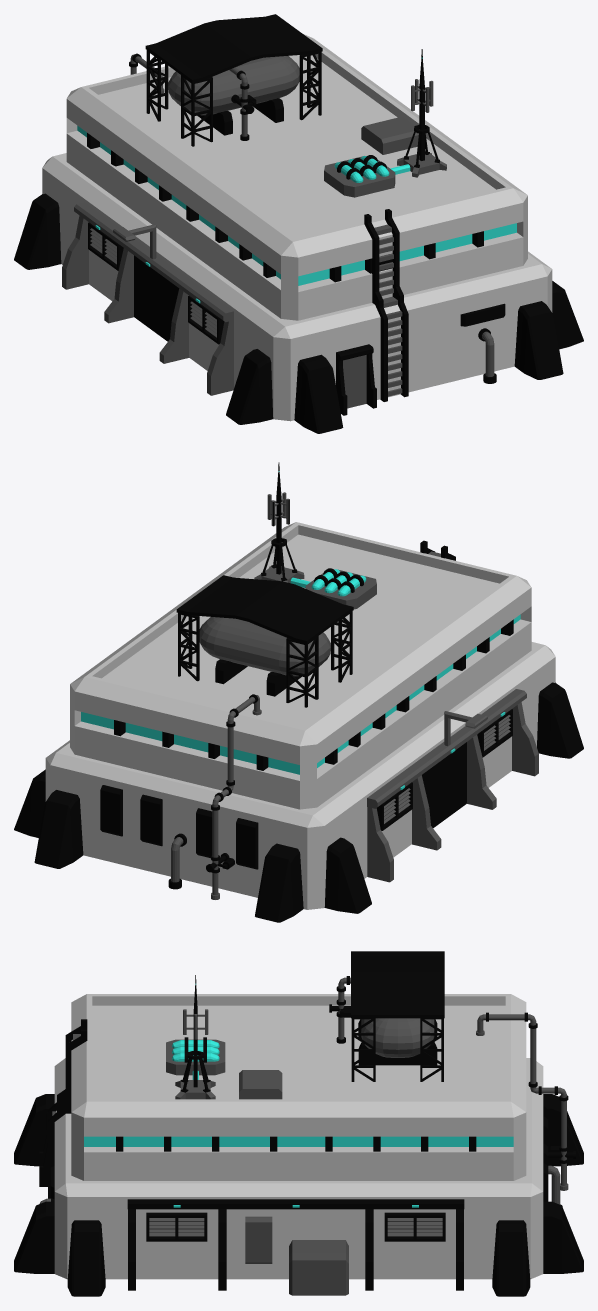
Rendered from ServiceeBuilding.fbx.
The picture shows the model from 3 angles, top to bottom: view 1: azimuth 30°, elevation 25°; view 2: azimuth 150°, elevation 25°; view 3: azimuth 270°, elevation 25°; orthographic projection.
Parts seen in each view (by area): view 1: service_building_1_; view 2: service_building_1_; view 3: service_building_1_.
Boxes of the visible parts, left/top/right/bottom form: service_building_1_: left=14, top=14, right=583, bottom=433; service_building_1_: left=14, top=462, right=583, bottom=922; service_building_1_: left=14, top=951, right=583, bottom=1296.
Size of the model in its own units: 594 by 315 by 427.
